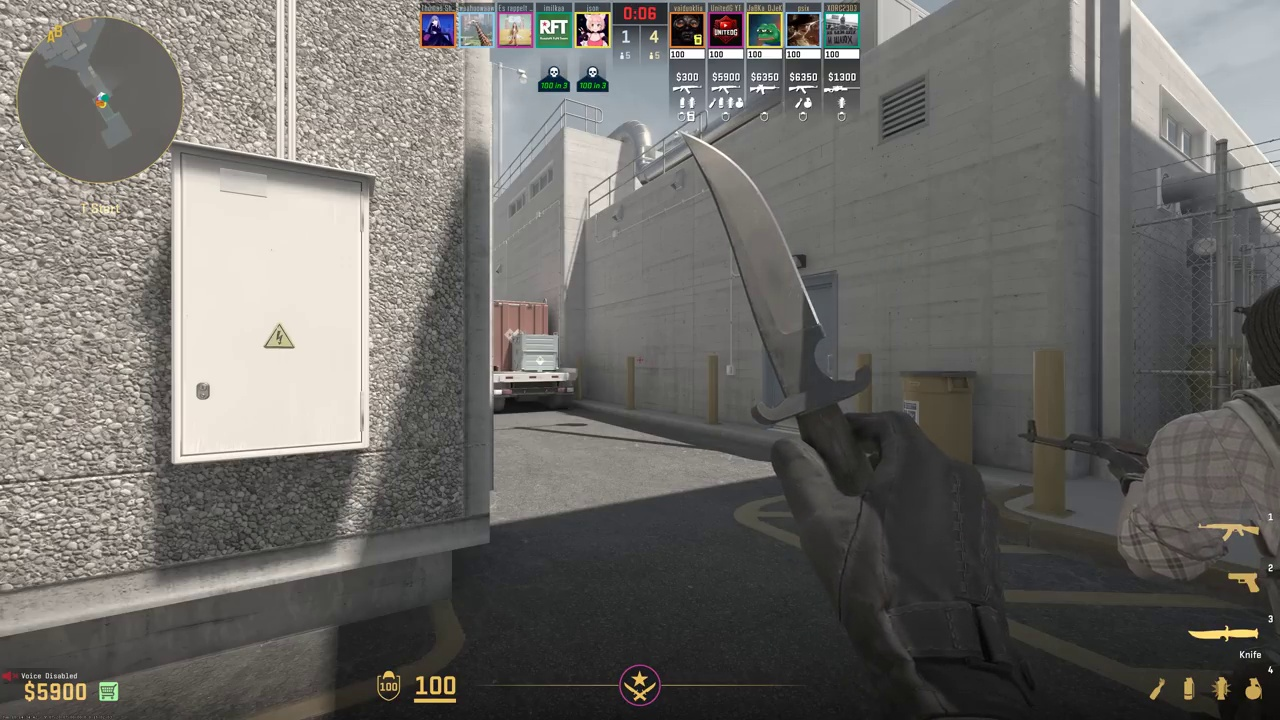Terrorist: (1132, 287, 1280, 720)
